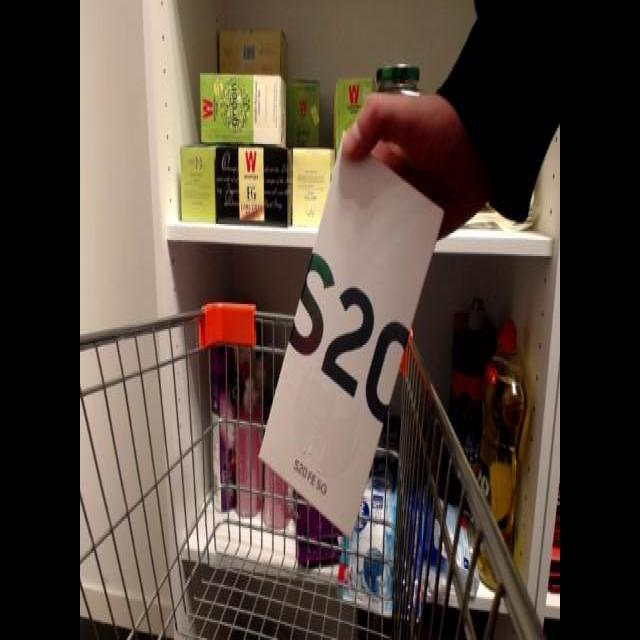Samsung S20: (252, 128, 454, 539)
